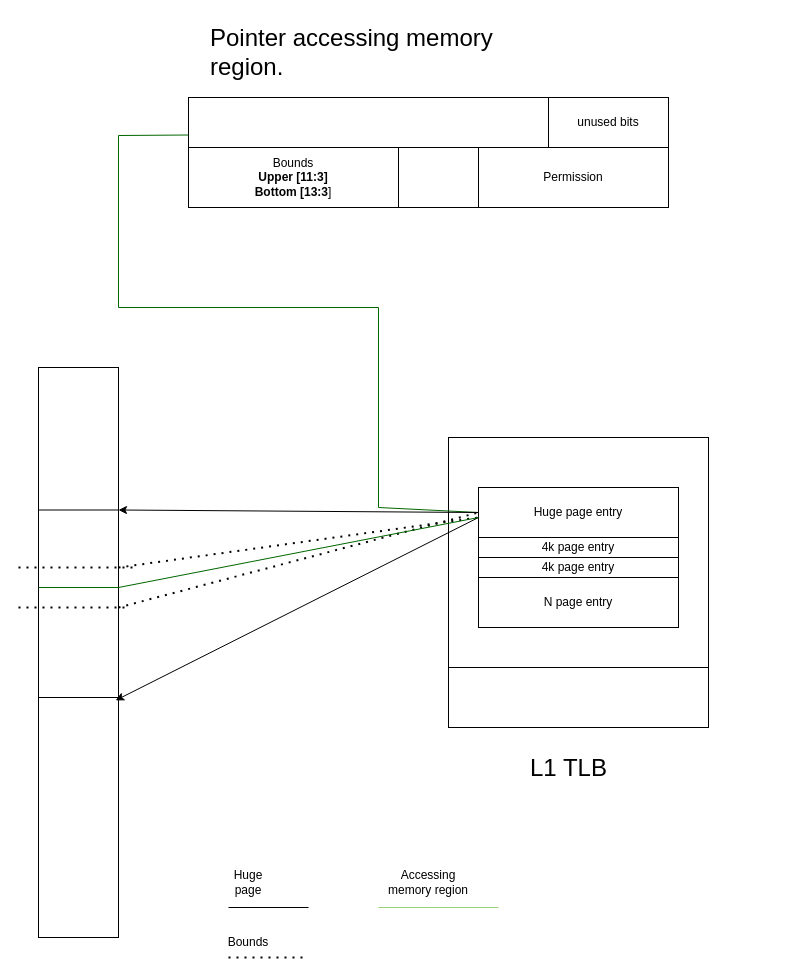
Image size: 805x976. Some labels were removed from this diagram. Each missing label, with the centre of its shape:
"48 bit virtual address" goes at (368,122).
"object type" goes at (438,177).
"Processor descirpton" goes at (578,697).
